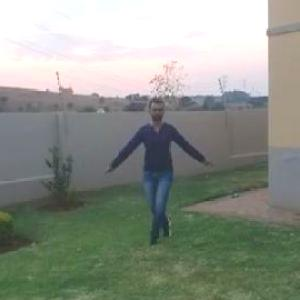land: (100, 86, 208, 248)
